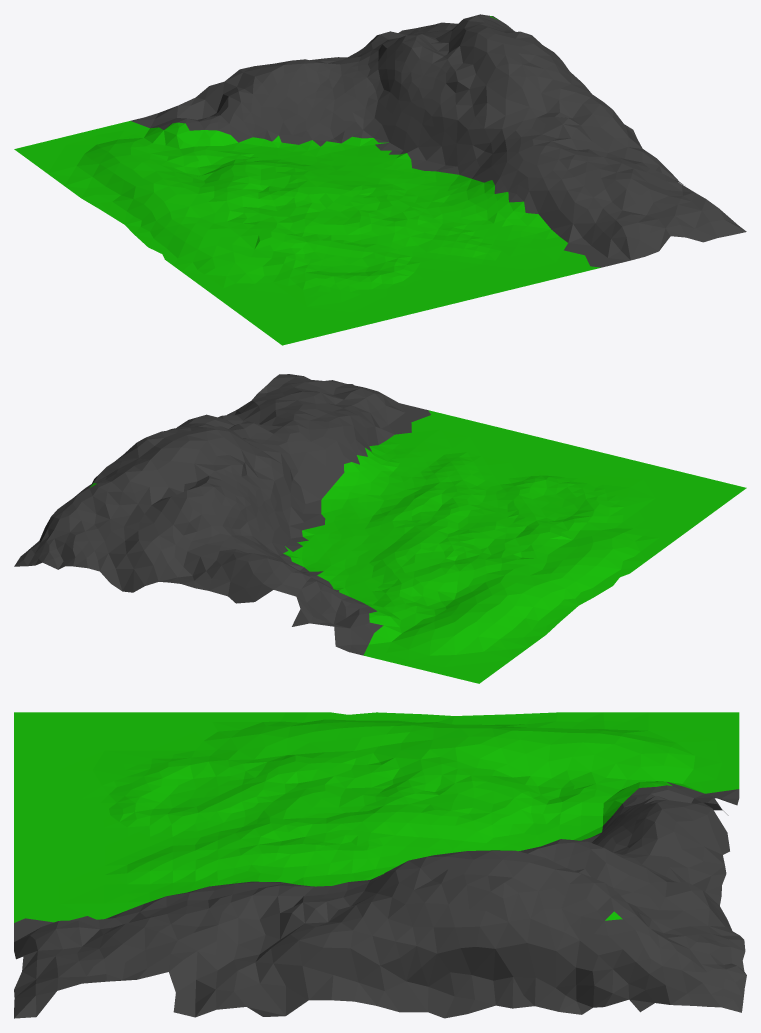
File: Terrain#3.fbx
3 renders of one model, top to bottom at view 1: azimuth 30°, elevation 25°; view 2: azimuth 150°, elevation 25°; view 3: azimuth 270°, elevation 25°, orthographic. The views are drawn at different scales.
Visible parts, largest first — view 1: Terrain#4; view 2: Terrain#4; view 3: Terrain#4.
Boxes of the visible parts, left/top/right/bottom form: Terrain#4: left=14, top=14, right=746, bottom=345; Terrain#4: left=14, top=374, right=746, bottom=683; Terrain#4: left=14, top=712, right=746, bottom=1018.
Bounding box in the file's own units: 12290 × 2099 × 12321.
